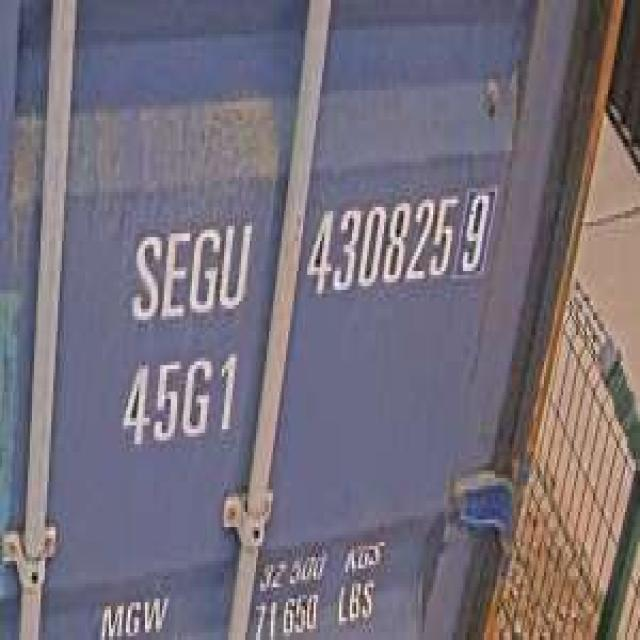dv: (457, 177, 497, 279)
owner: (124, 211, 254, 327)
serial: (303, 185, 460, 301)
size: (115, 342, 241, 456)
